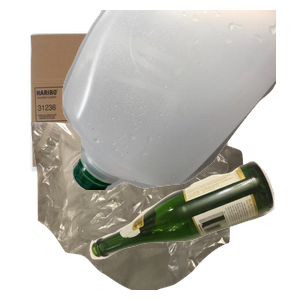cardboard: (28, 31, 249, 195)
glass: (87, 158, 300, 300)
plastic: (60, 10, 300, 190)
trash: (29, 120, 265, 300)
